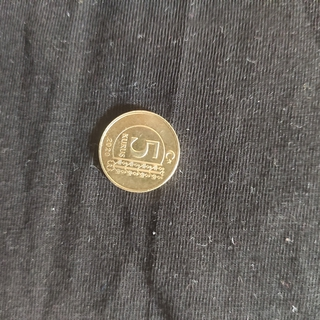5KURUS: (96, 107, 182, 195)
